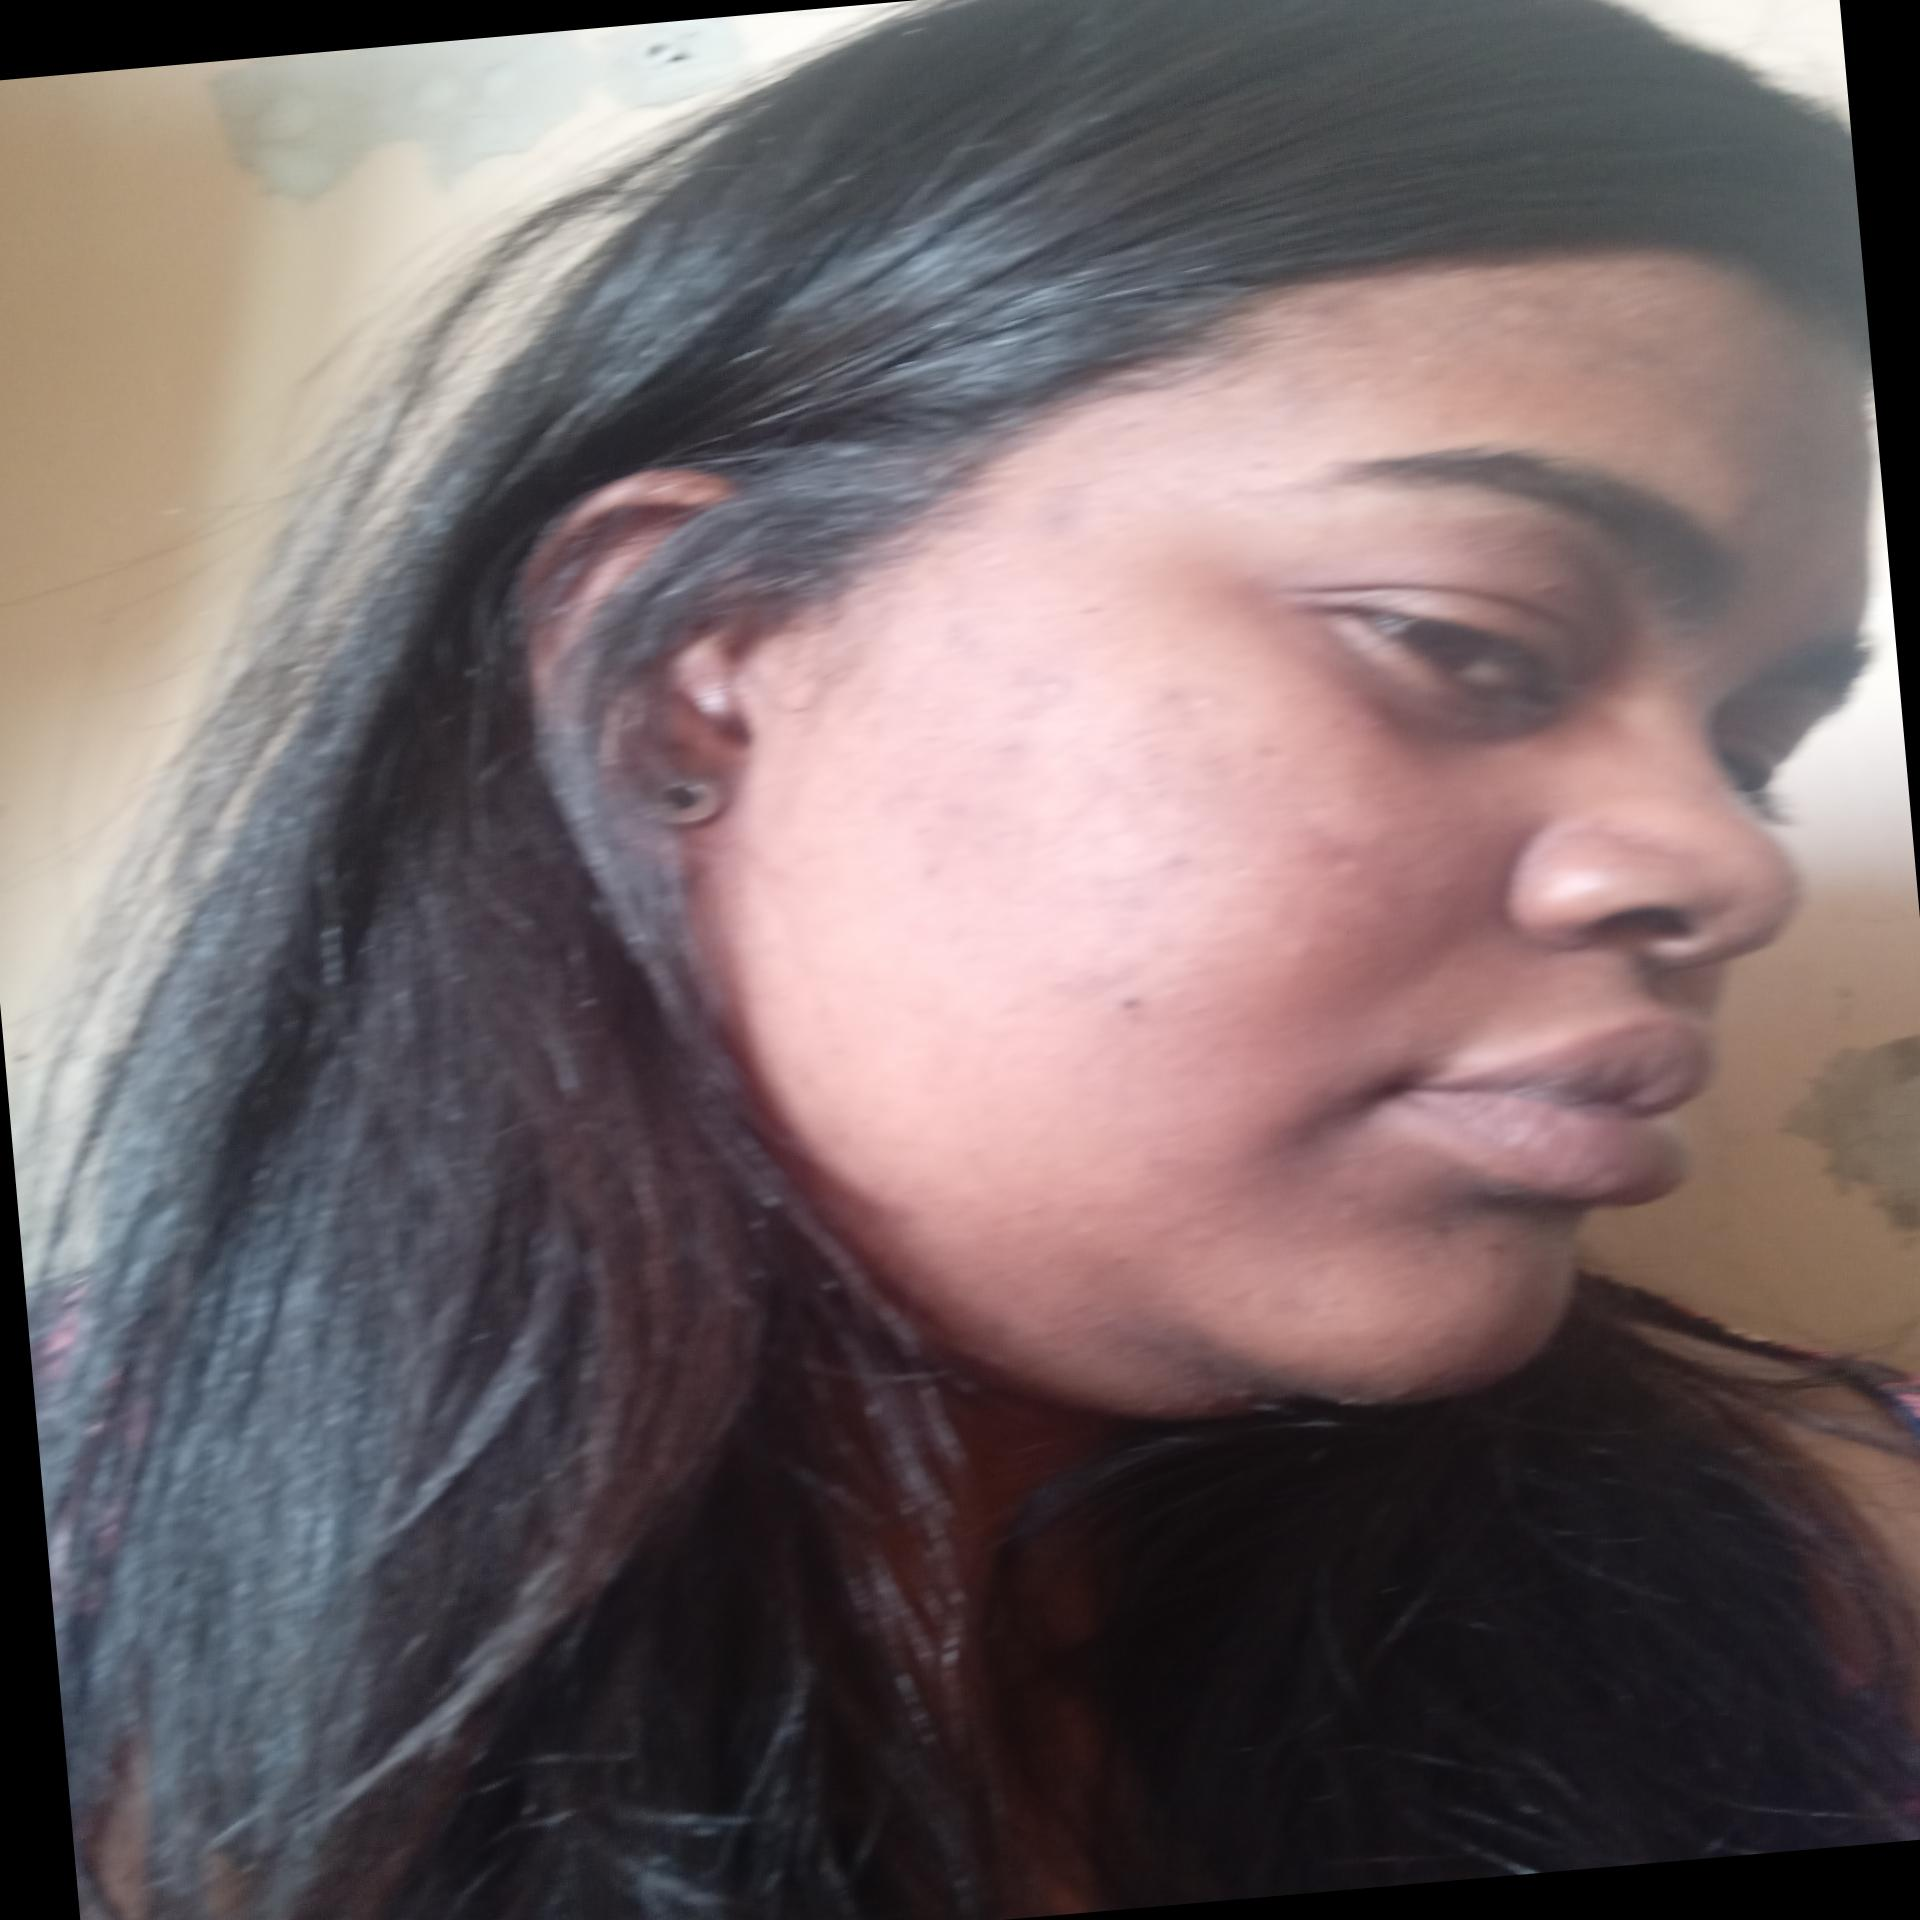Englarged Pores: (1067, 578, 1143, 628), (1319, 825, 1371, 883), (1236, 733, 1303, 768), (1312, 1190, 1366, 1225), (1148, 849, 1192, 888), (904, 853, 948, 886), (986, 735, 1029, 768)
